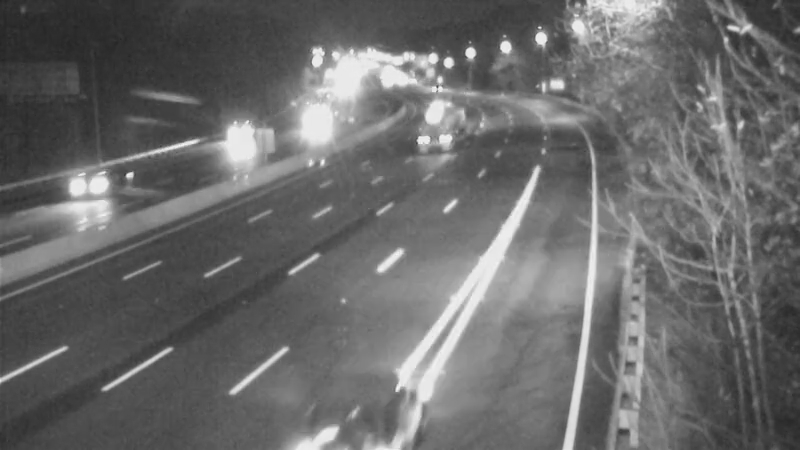vehicle: (289, 359, 399, 450), (30, 149, 110, 229), (409, 77, 459, 127), (411, 102, 461, 152), (207, 110, 257, 160), (265, 111, 315, 161)
